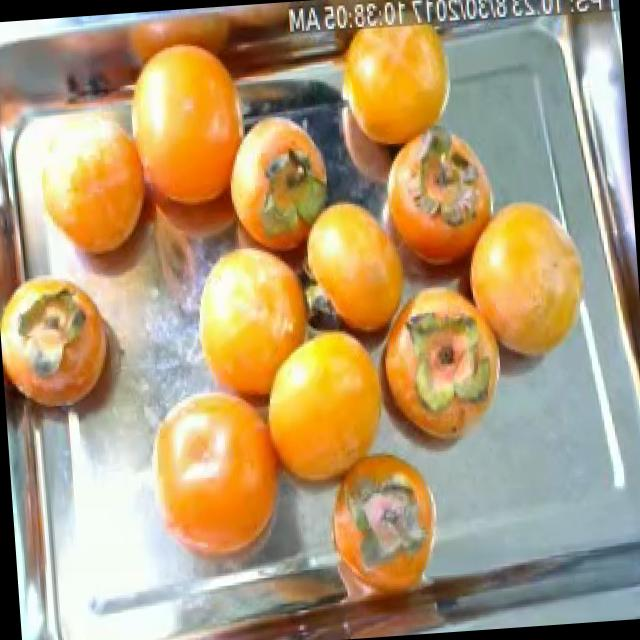Fruit: (172, 213, 338, 424), (440, 180, 600, 388), (332, 0, 473, 196), (369, 119, 510, 264)
